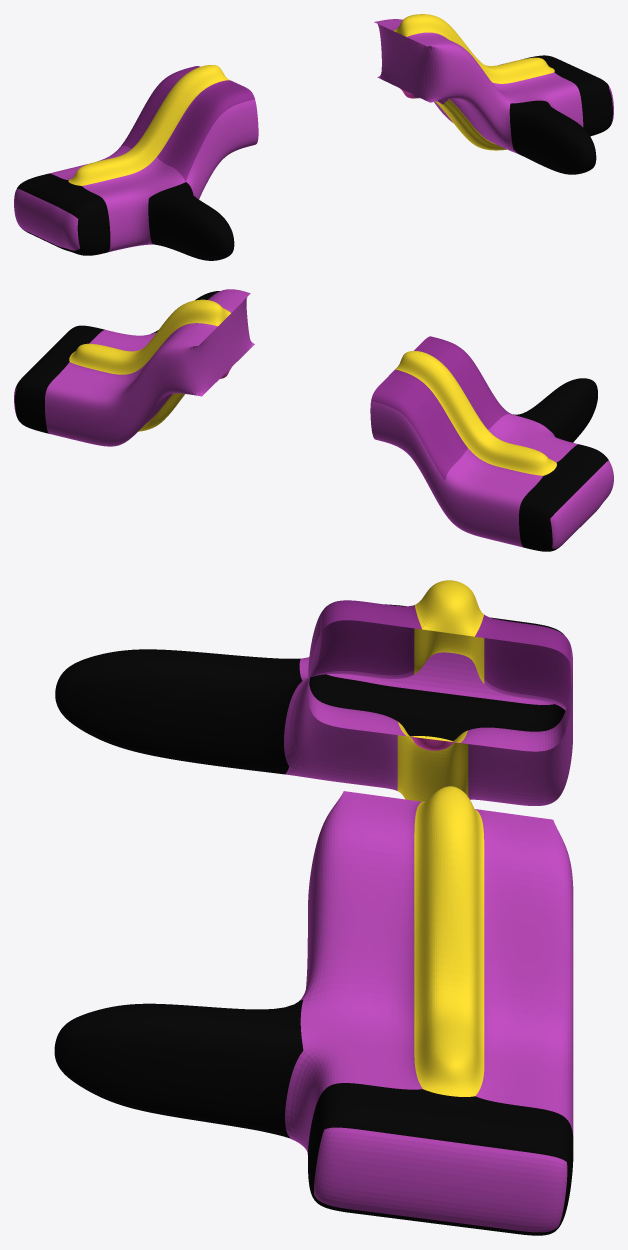
Rendered from RapidFire.fbx.
3 views of the same model, one above another, from view 1: azimuth 30°, elevation 25°; view 2: azimuth 150°, elevation 25°; view 3: azimuth 270°, elevation 25° (orthographic). The views are drawn at different scales.
Parts seen in each view (by area): view 1: FastShoot; view 2: FastShoot; view 3: FastShoot.
Part boxes in pixels (left/top/right/bottom): FastShoot: left=14, top=14, right=613, bottom=260; FastShoot: left=14, top=289, right=613, bottom=551; FastShoot: left=54, top=580, right=573, bottom=1235.
Bounding box in the file's own units: 209 × 55.35 × 86.24.
